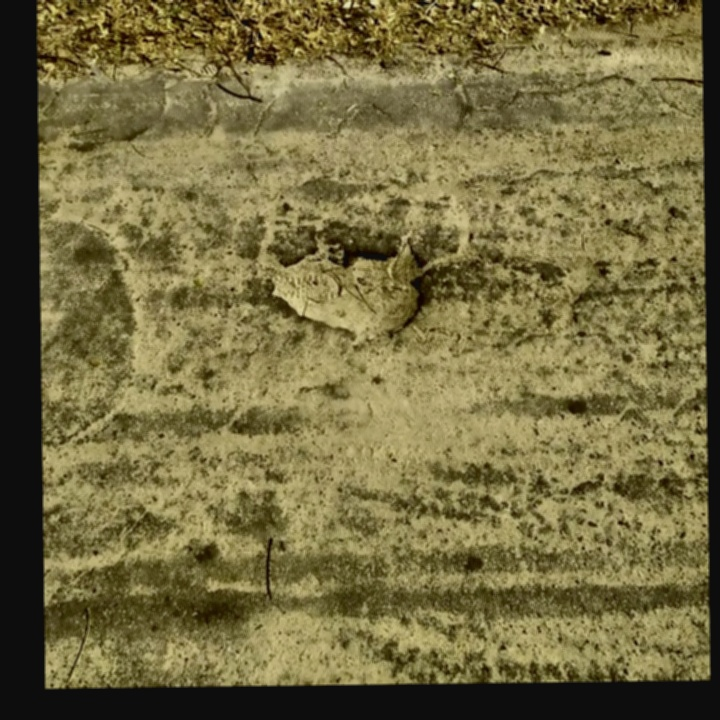pothole: (265, 231, 430, 338)
